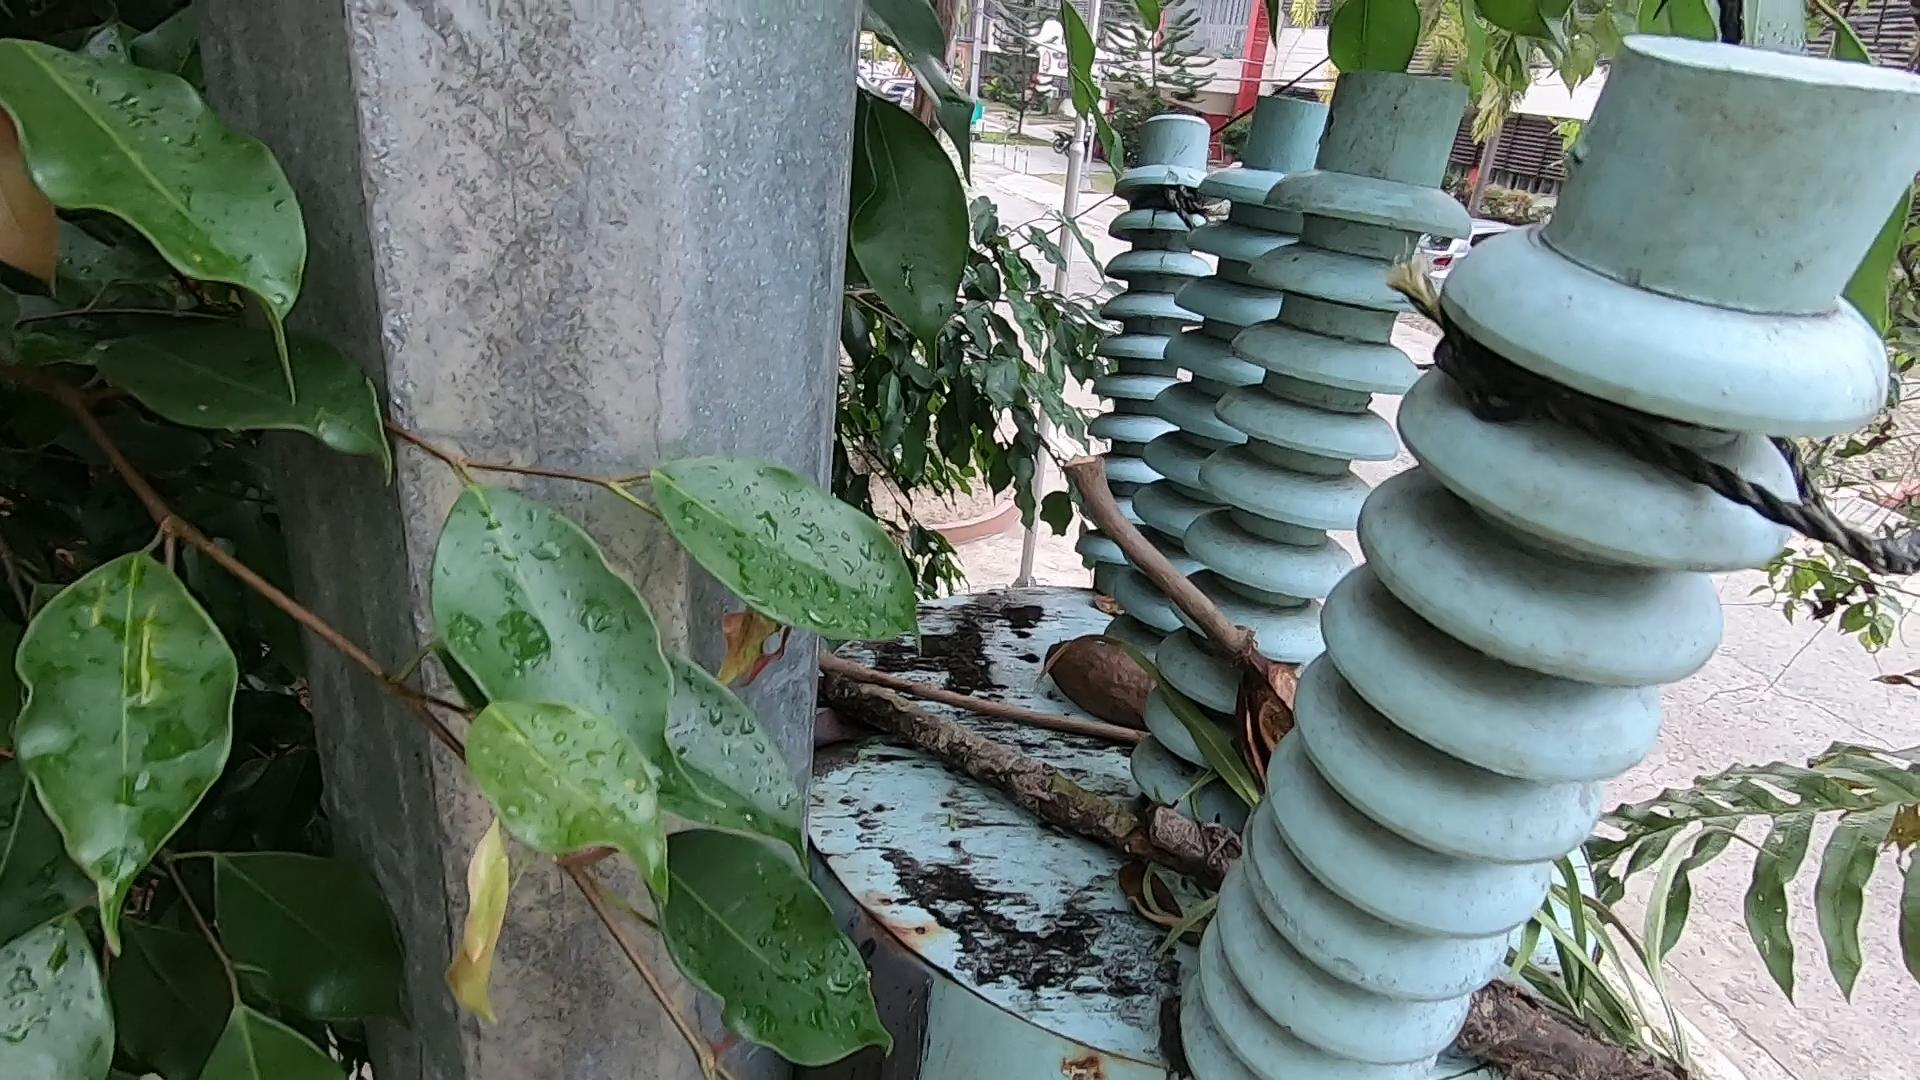branch with leaves: (825, 655, 1716, 1080)
leaf: (1073, 576, 1131, 624)
tree branch: (1056, 425, 1316, 753), (829, 646, 1143, 749)
